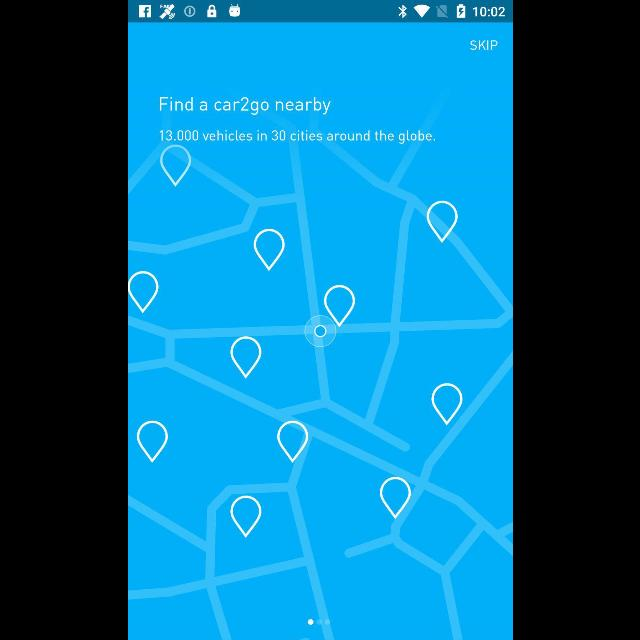backgroundimage: (128, 22, 512, 640)
pageindicator: (306, 618, 330, 626)
text: (159, 130, 435, 144), (158, 97, 330, 115), (469, 40, 497, 50)
uppertaskbar: (128, 1, 512, 23)
